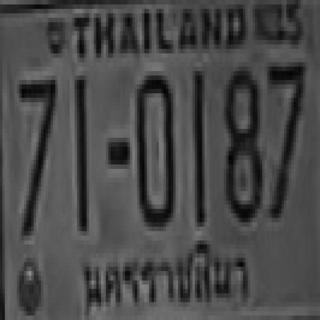N00: (135, 71, 173, 222)
N01: (73, 76, 88, 226), (191, 67, 203, 222)
N07: (17, 75, 55, 231), (267, 58, 303, 213)
N08: (224, 62, 260, 218)
P30: (74, 234, 255, 315)
